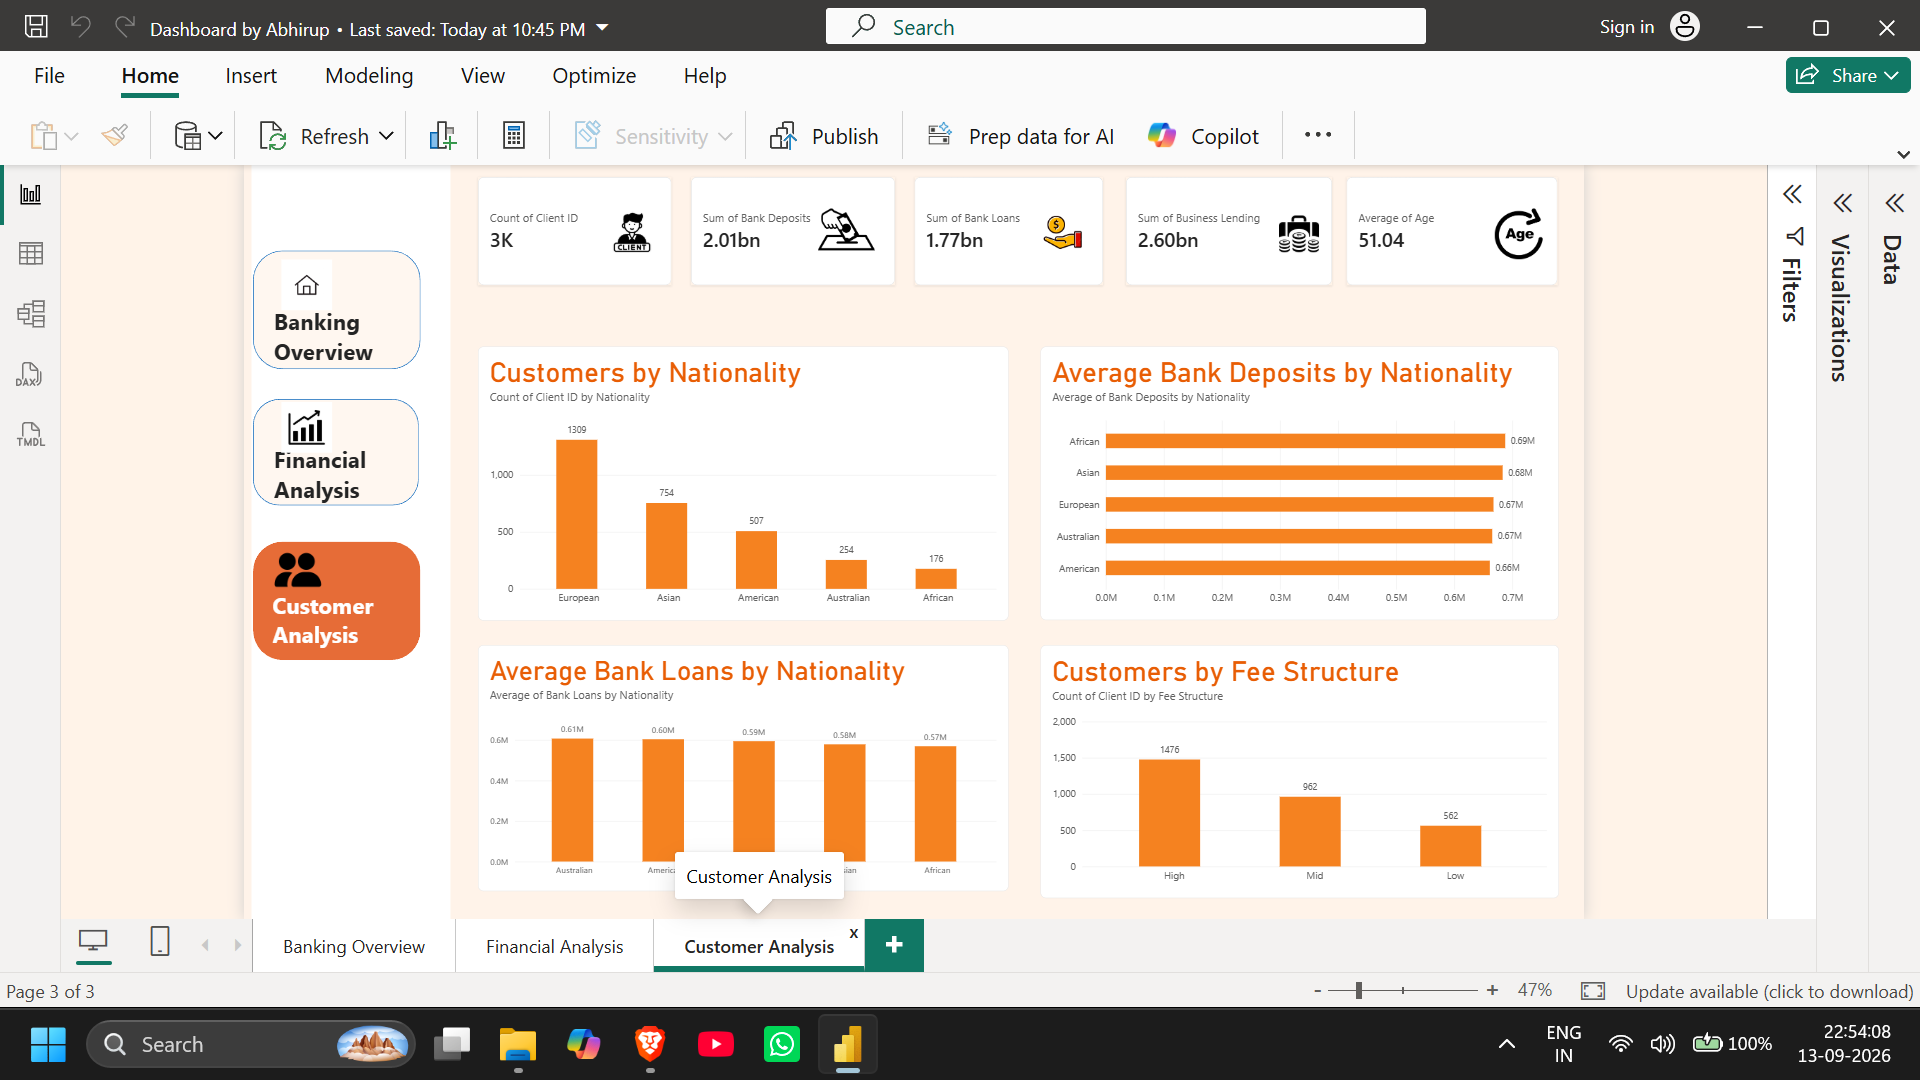

This screenshot's page, from the dashboard's own definition file:
{"tool":"powerbi","page":{"name":"Customer Analysis","canvas":[1920,1080],"ordinal":2},"visuals":[{"type":"clusteredColumnChart","title":"Customers by Nationality","fields":{"Category":["Banking.Nationality"],"Y":["CountNonNull(Banking.Client ID)"]},"box":[335,260,760,392.5],"z":0},{"type":"clusteredBarChart","title":"Average Bank Deposits by Nationality","fields":{"Category":["Banking.Nationality"],"Y":["Avg(Banking.Bank Deposits)"]},"box":[1140,260,742,392],"z":1000},{"type":"clusteredColumnChart","title":"Average Bank Loans by Nationality","fields":{"Category":["Banking.Nationality"],"Y":["Avg(Banking.Bank Loans)"]},"box":[335,687.5,760,352.5],"z":2000},{"type":"clusteredColumnChart","title":"Customers by Fee Structure","fields":{"Category":["Banking.Fee Structure"],"Y":["CountNonNull(Banking.Client ID)"]},"box":[1140,687.5,742.5,362.5],"z":3000},{"type":"cardVisual","fields":{"Data":["CountNonNull(Banking.Client ID)"]},"box":[335,17.5,277.5,155],"z":4000},{"type":"cardVisual","fields":{"Data":["Sum(Banking.Bank Deposits)"]},"box":[640,17.5,292.5,155],"z":5000},{"type":"cardVisual","fields":{"Data":["Sum(Banking.Bank Loans)"]},"box":[960,17.5,270,155],"z":6000},{"type":"cardVisual","fields":{"Data":["Sum(Banking.Business Lending)"]},"box":[1262.5,17.5,295,155],"z":7000},{"type":"cardVisual","fields":{"Data":["Avg(Banking.Age)"]},"box":[1580,17.5,302.5,155],"z":8000},{"type":"shape","box":[10,0,285,1080],"z":9000},{"type":"shape","box":[12.5,122.5,240,170],"z":10000},{"type":"shape","box":[12.5,335,237.5,152.5],"z":11000},{"type":"shape","box":[12.5,540,240,170],"z":12000},{"type":"textbox","box":[42.5,202.5,172.5,90],"z":13000},{"type":"textbox","box":[42.5,400,172.5,87.5],"z":14000},{"type":"textbox","box":[40,607.5,212.5,90],"z":15000},{"type":"image","box":[32.5,135,115,72.5],"z":16000},{"type":"image","box":[32.5,340,115,72.5],"z":17000},{"type":"image","box":[40,535,72.5,90],"z":18000},{"type":"image","box":[497.5,45,115,102.5],"z":19000},{"type":"image","box":[817.5,62.5,92.5,60],"z":20000},{"type":"image","box":[1115,60,115,72.5],"z":21000},{"type":"image","box":[1482.5,62.5,57.5,72.5],"z":22000},{"type":"image","box":[1767.5,62.5,115,72.5],"z":23000}]}

Visuals, with their boxes on the page's 1920x1080 design canvas (x1, y1, x2, y2). These are canvas units, not pixel positions in the 1920x1080 screenshot, which may show the page scaled, cropped or inside an application window:
"Customers by Nationality" clusteredColumnChart: (x1=335, y1=260, x2=1095, y2=652)
"Average Bank Deposits by Nationality" clusteredBarChart: (x1=1140, y1=260, x2=1882, y2=652)
"Average Bank Loans by Nationality" clusteredColumnChart: (x1=335, y1=688, x2=1095, y2=1040)
"Customers by Fee Structure" clusteredColumnChart: (x1=1140, y1=688, x2=1882, y2=1050)
cardVisual - CountNonNull(Banking.Client ID): (x1=335, y1=18, x2=612, y2=172)
cardVisual - Sum(Banking.Bank Deposits): (x1=640, y1=18, x2=932, y2=172)
cardVisual - Sum(Banking.Bank Loans): (x1=960, y1=18, x2=1230, y2=172)
cardVisual - Sum(Banking.Business Lending): (x1=1262, y1=18, x2=1558, y2=172)
cardVisual - Avg(Banking.Age): (x1=1580, y1=18, x2=1882, y2=172)
shape: (x1=10, y1=0, x2=295, y2=1080)
shape: (x1=12, y1=122, x2=252, y2=292)
shape: (x1=12, y1=335, x2=250, y2=488)
shape: (x1=12, y1=540, x2=252, y2=710)
textbox: (x1=42, y1=202, x2=215, y2=292)
textbox: (x1=42, y1=400, x2=215, y2=488)
textbox: (x1=40, y1=608, x2=252, y2=698)
image: (x1=32, y1=135, x2=148, y2=208)
image: (x1=32, y1=340, x2=148, y2=412)
image: (x1=40, y1=535, x2=112, y2=625)
image: (x1=498, y1=45, x2=612, y2=148)
image: (x1=818, y1=62, x2=910, y2=122)
image: (x1=1115, y1=60, x2=1230, y2=132)
image: (x1=1482, y1=62, x2=1540, y2=135)
image: (x1=1768, y1=62, x2=1882, y2=135)
